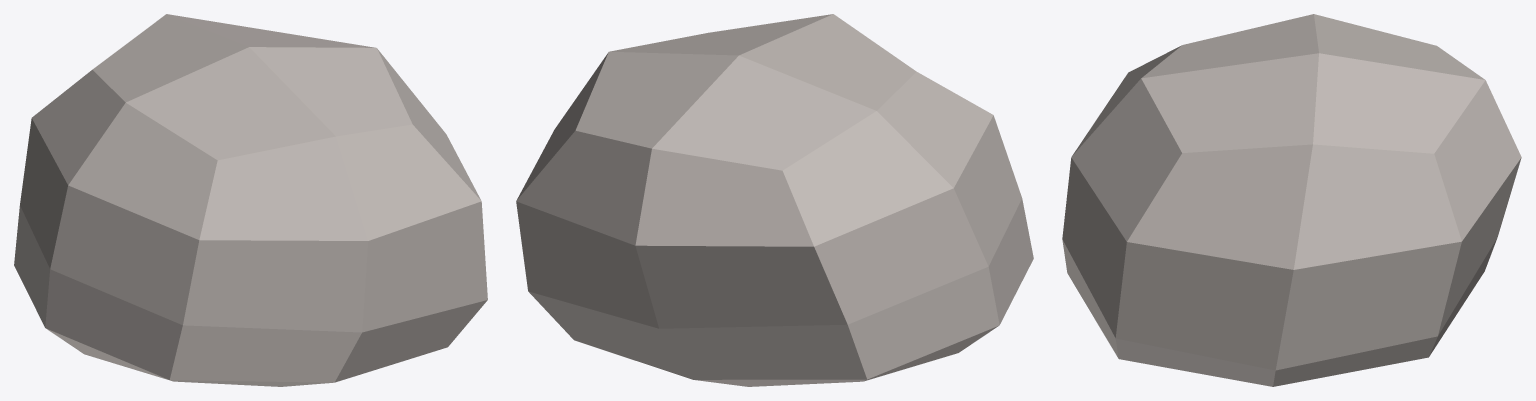
File: mycube.gltf
3 renders of one model, left to right at view 1: azimuth 30°, elevation 25°; view 2: azimuth 150°, elevation 25°; view 3: azimuth 270°, elevation 25°, orthographic. The views are drawn at different scales.
Visible parts, largest first — view 1: Cube; view 2: Cube; view 3: Cube.
Part boxes in pixels (box(x1,y1,x2,y2)): Cube: box(14, 14, 487, 386); Cube: box(516, 14, 1033, 386); Cube: box(1062, 14, 1521, 386).
Bounding box in the file's own units: 2.65 × 1.6 × 2.51.
Materials: 1 (1 with a texture image).
